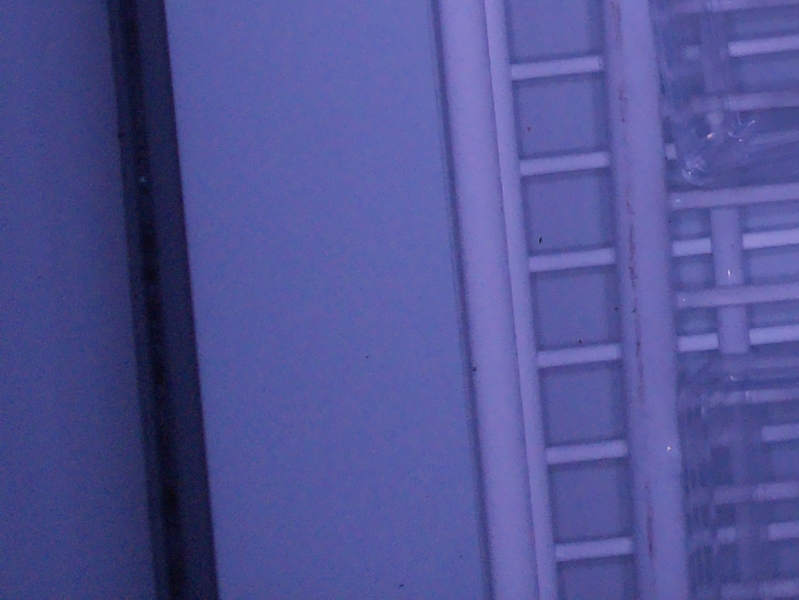plate: (675, 353, 799, 600), (659, 1, 799, 192)
